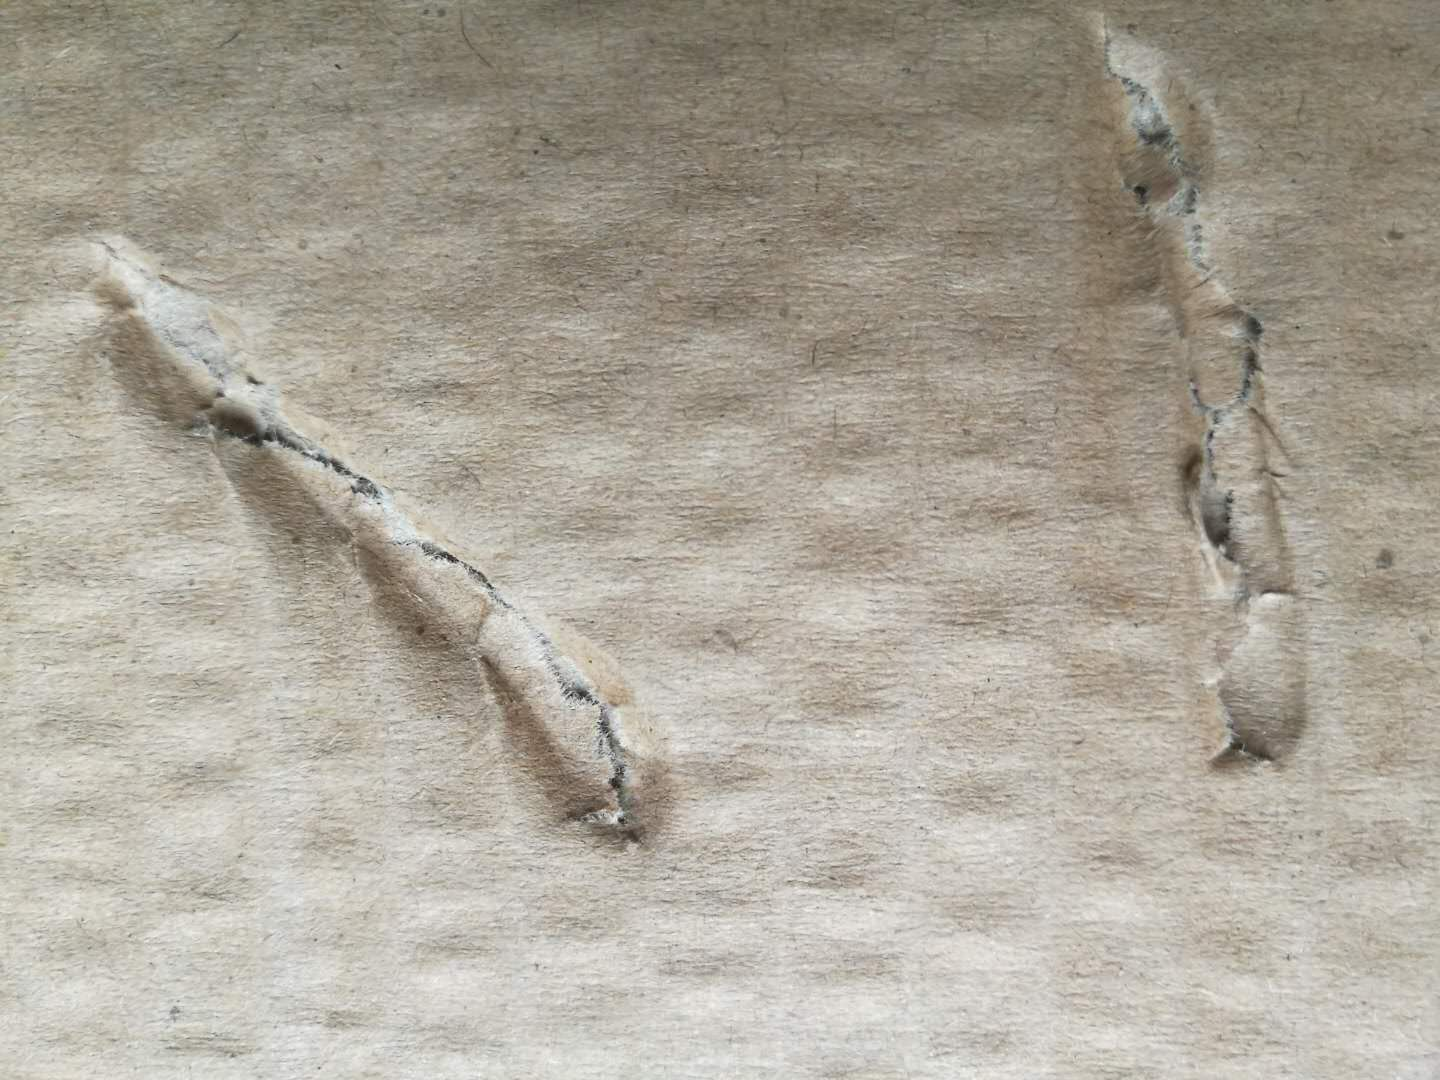defect: (16, 189, 722, 906), (1034, 5, 1384, 832)
